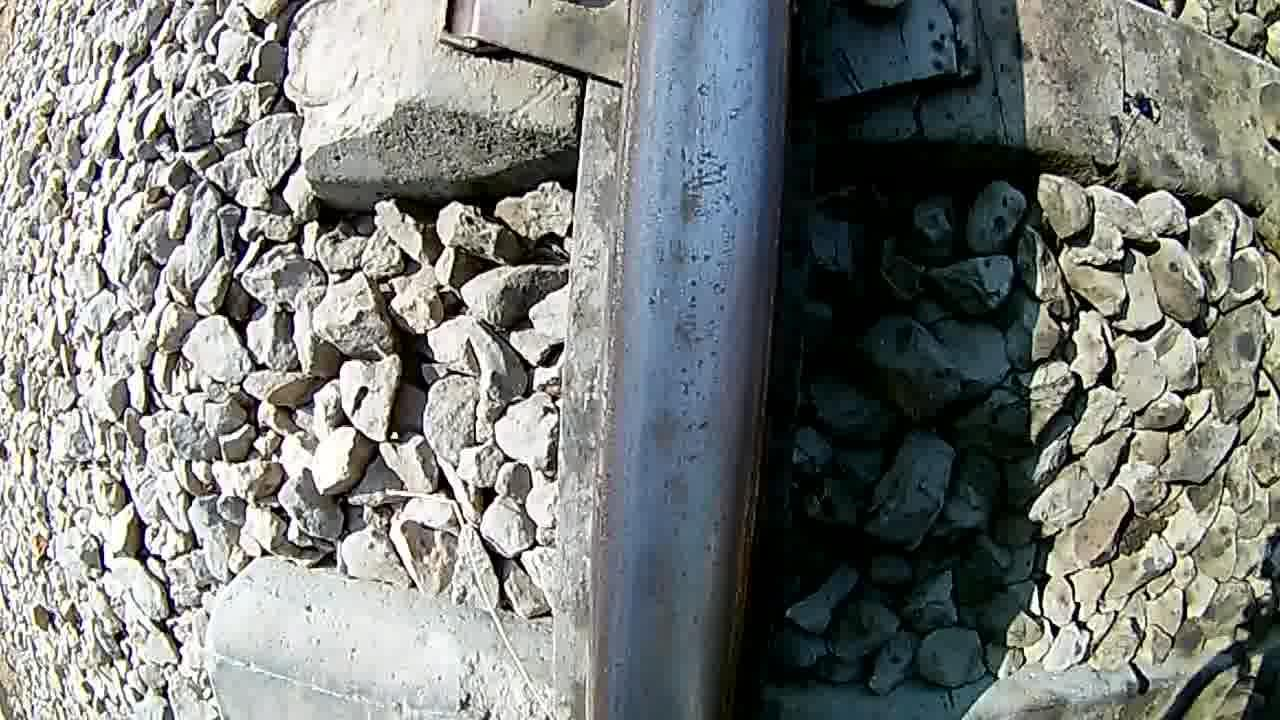crack: (607, 1, 788, 720)
